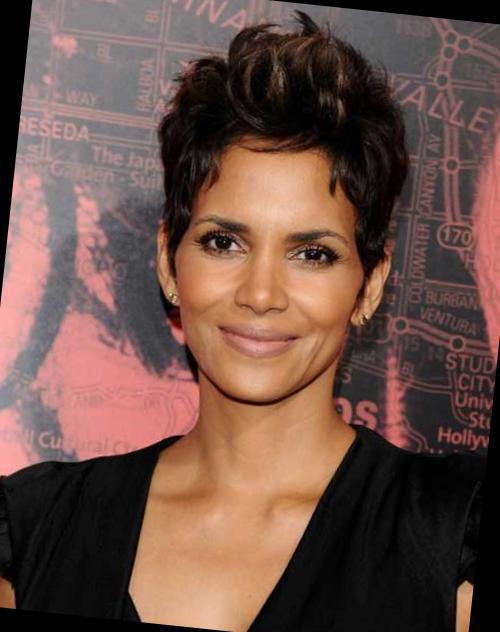Sober: (185, 159, 357, 390)
